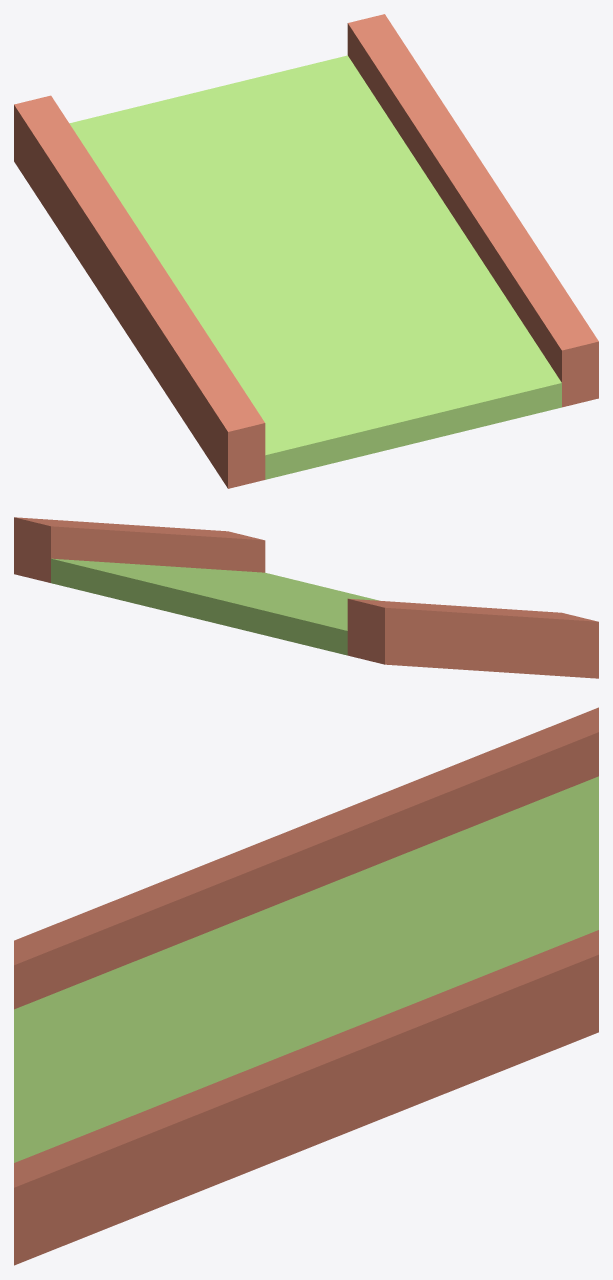
The model's file is Ramp_3_01.glb.
3 views of the same model, one above another, from view 1: azimuth 30°, elevation 25°; view 2: azimuth 150°, elevation 25°; view 3: azimuth 270°, elevation 25° (orthographic). The views are drawn at different scales.
Parts seen in each view (by area): view 1: Mesh1 Ramp_3 Model; view 2: Mesh1 Ramp_3 Model; view 3: Mesh1 Ramp_3 Model.
Part boxes in pixels (x1=…): Mesh1 Ramp_3 Model: x1=14, y1=14, x2=598, y2=488; Mesh1 Ramp_3 Model: x1=14, y1=517, x2=598, y2=678; Mesh1 Ramp_3 Model: x1=14, y1=707, x2=598, y2=1265.
Bounding box in the file's own units: 3 × 1.76 × 3.
